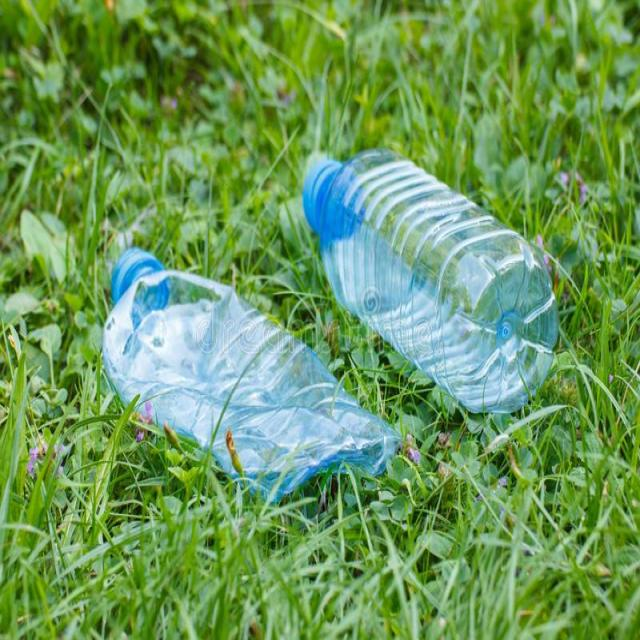bottle: (291, 121, 567, 434), (92, 240, 419, 474)
